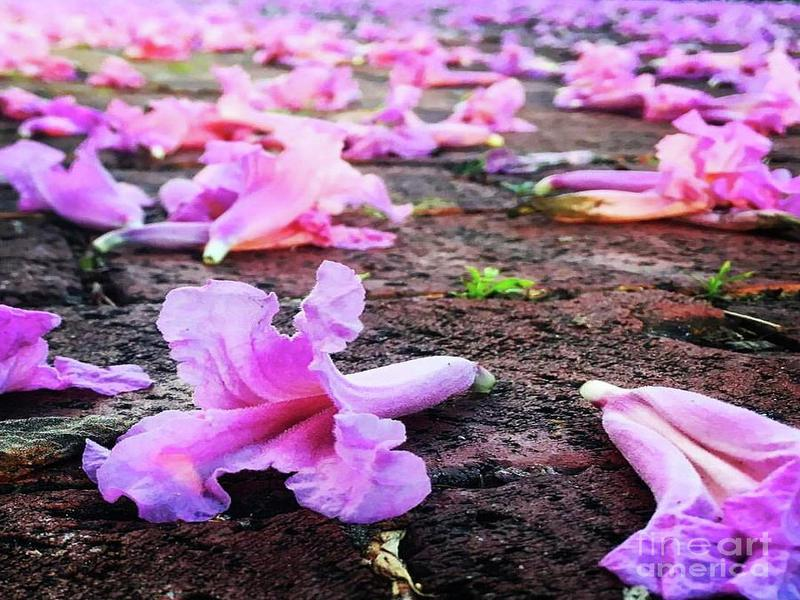flowers: (1, 6, 528, 266), (76, 250, 498, 541), (533, 6, 800, 240), (568, 365, 800, 600)
